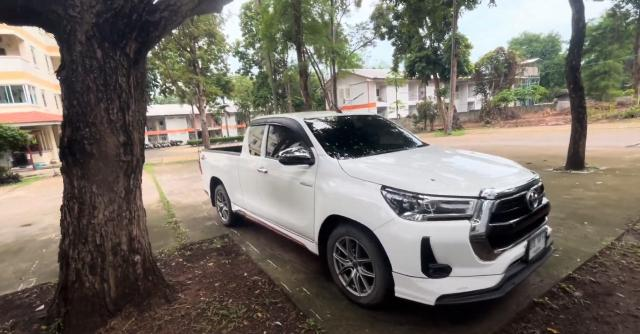pickup-truck: (198, 111, 558, 307)
